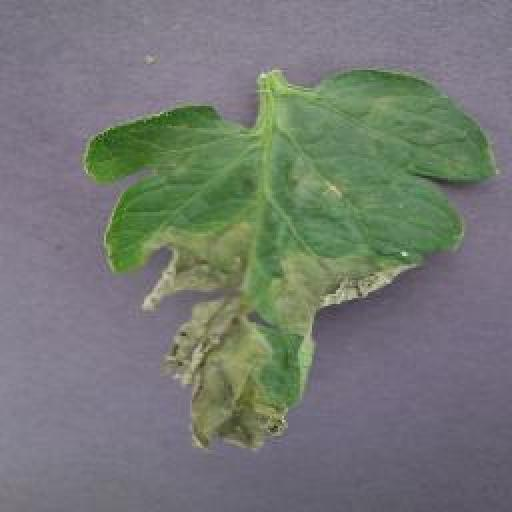disease_tomato: (84, 66, 498, 458)
